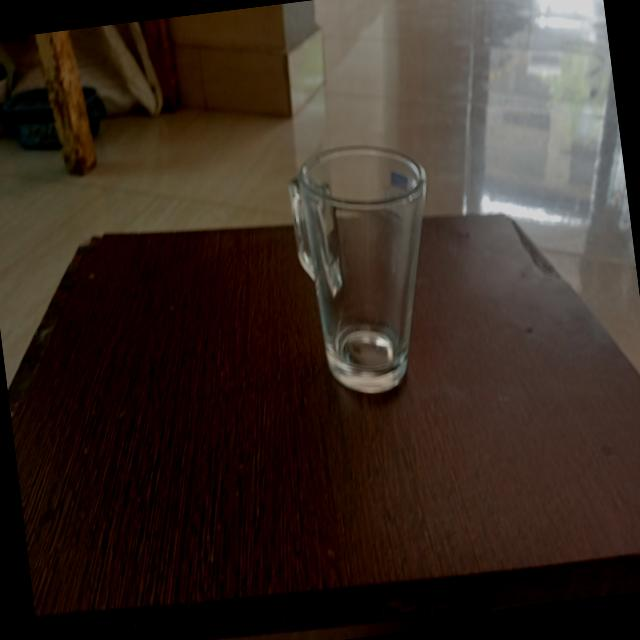glass-VX4N: (282, 134, 452, 401)
